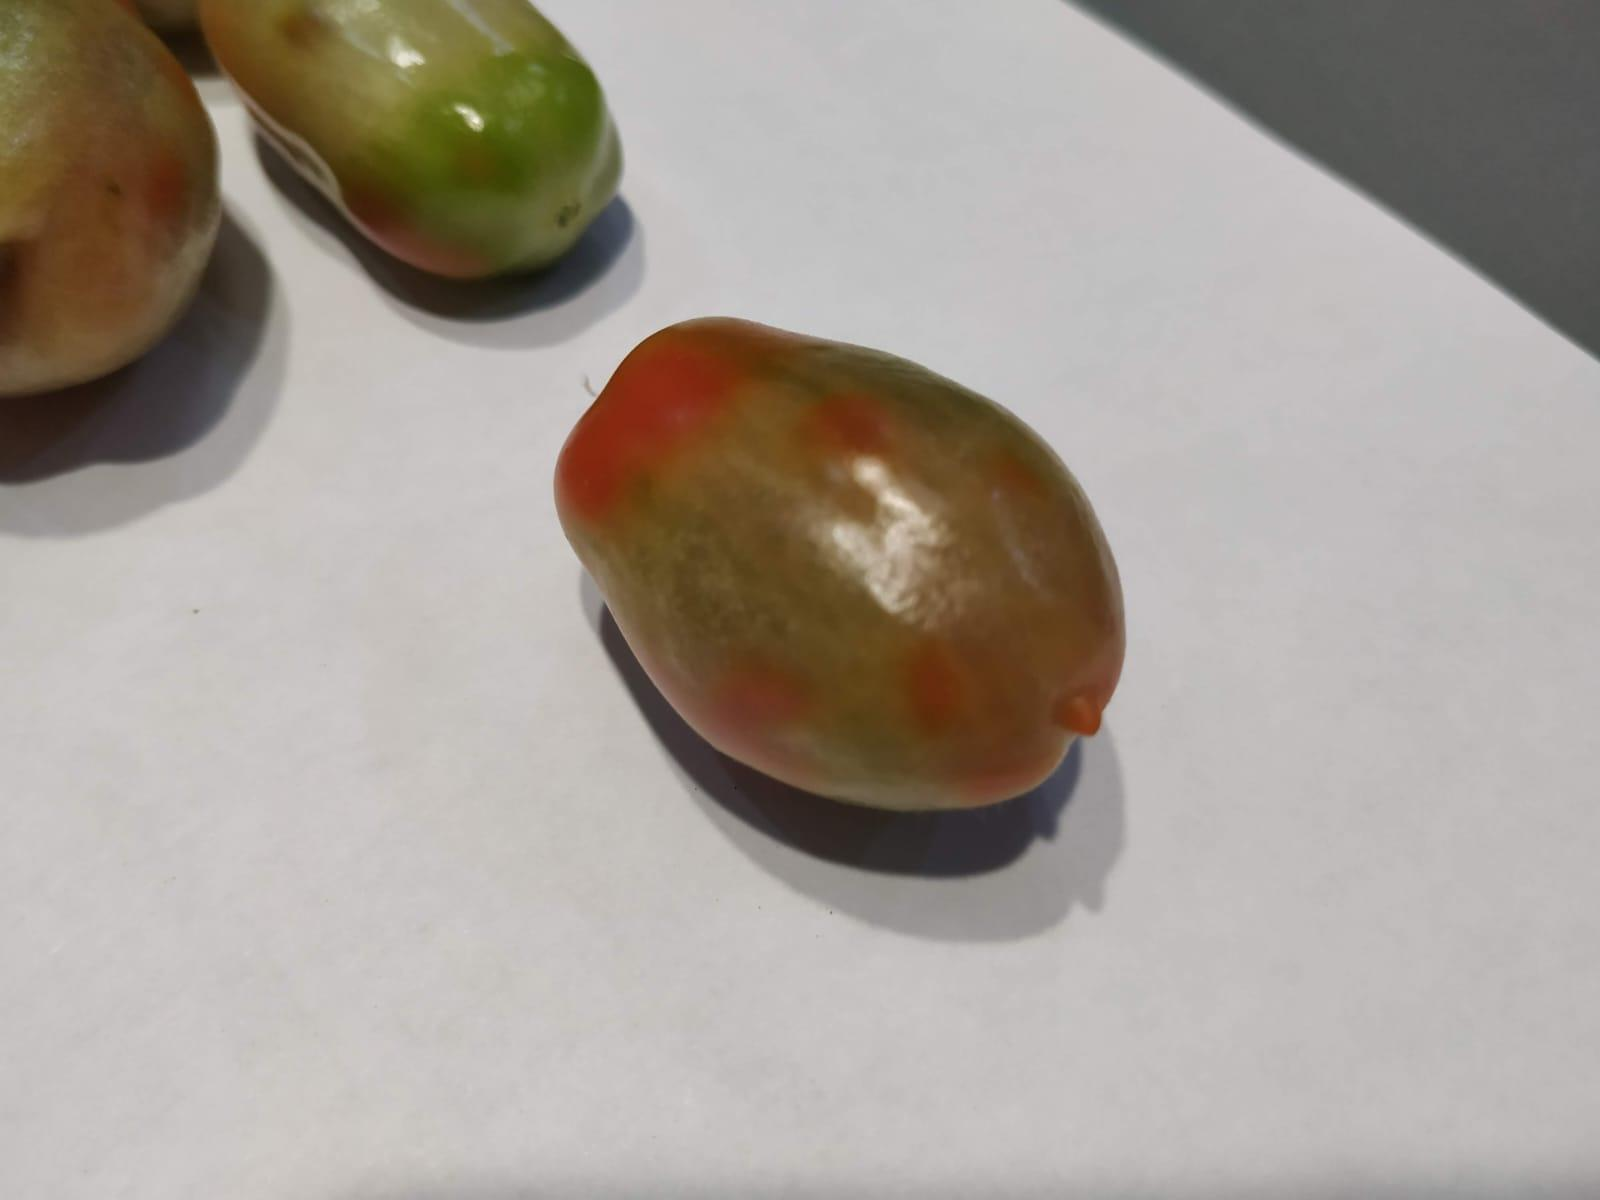Rugose tomato: (554, 316, 1125, 808)
